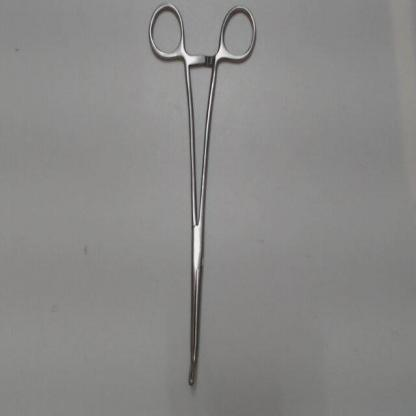Lahey Forceps: (140, 3, 262, 390)
